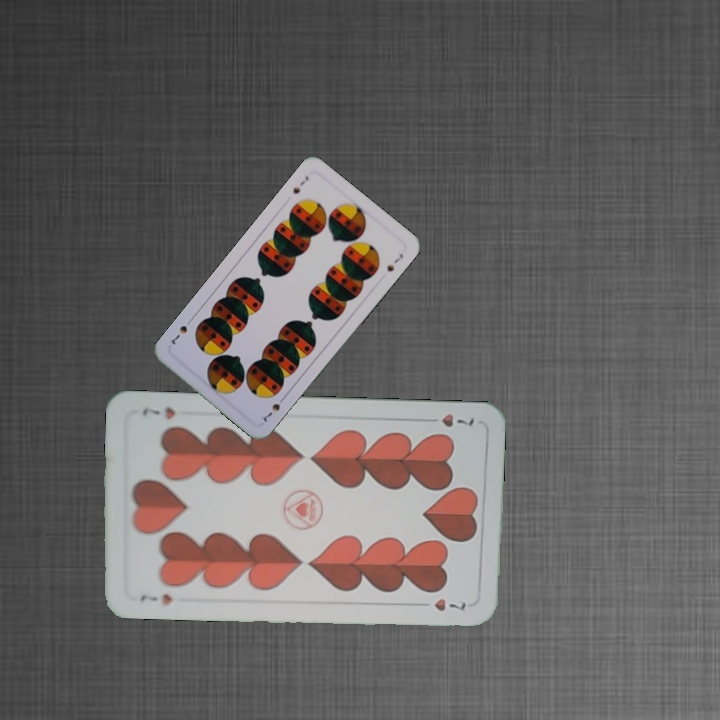H7: (420, 410, 477, 430), (137, 589, 175, 608)
S7: (259, 392, 288, 424), (289, 171, 311, 197)
